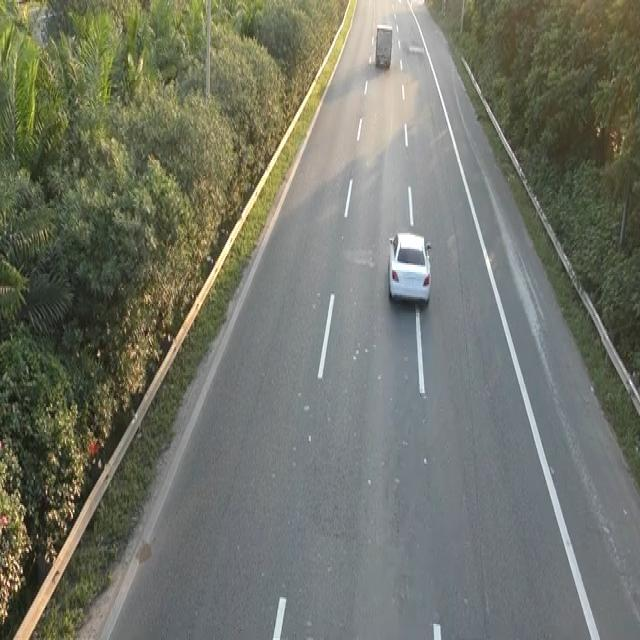bus: (385, 228, 433, 306)
minivan: (373, 22, 393, 70)
